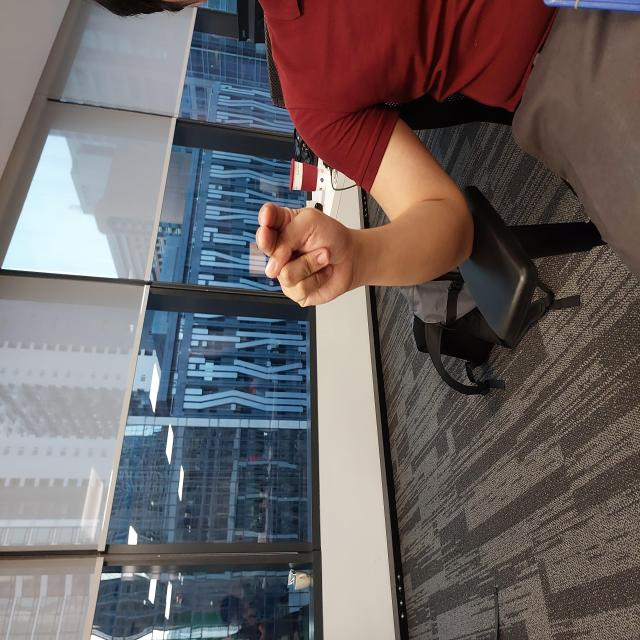N: (332, 255, 441, 364)
